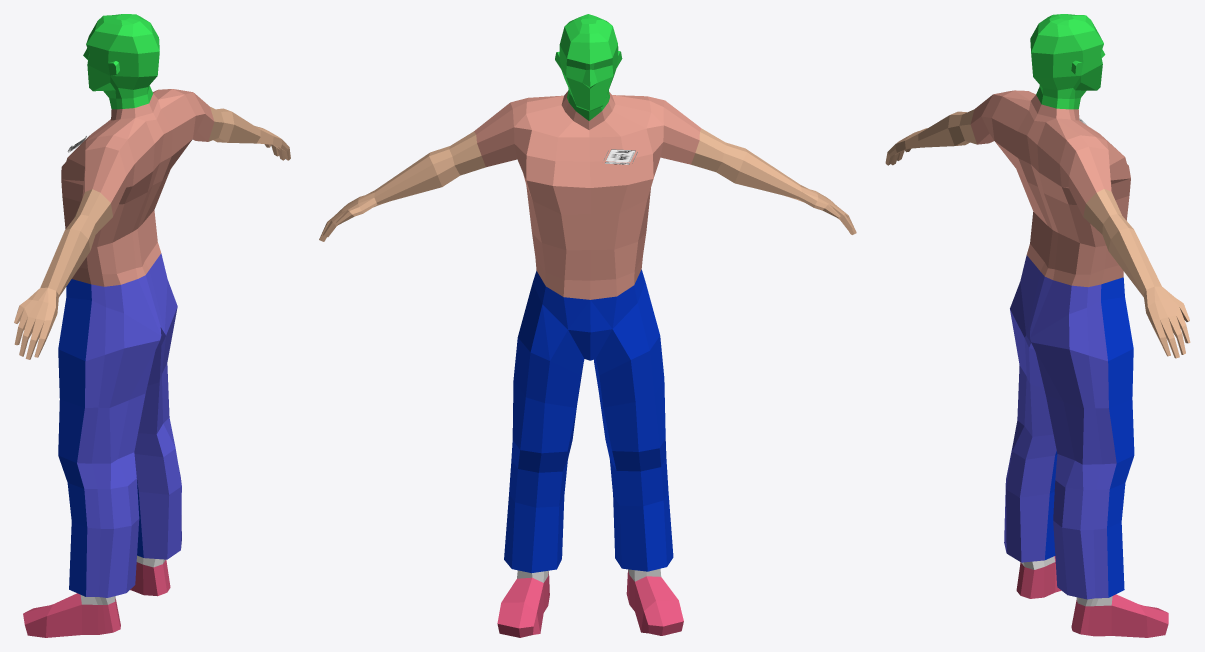
The model's file is npc_uhuy.fbx.
3 views of the same model, side by side, from view 1: azimuth 30°, elevation 25°; view 2: azimuth 150°, elevation 25°; view 3: azimuth 270°, elevation 25° (orthographic).
Parts seen in each view (by area): view 1: Cube; view 2: Cube; view 3: Cube.
Boxes of the visible parts, left/top/right/bottom form: Cube: left=14, top=14, right=290, bottom=637; Cube: left=319, top=14, right=856, bottom=637; Cube: left=885, top=14, right=1190, bottom=637.
Size of the model in its own units: 240 by 337 by 156.
